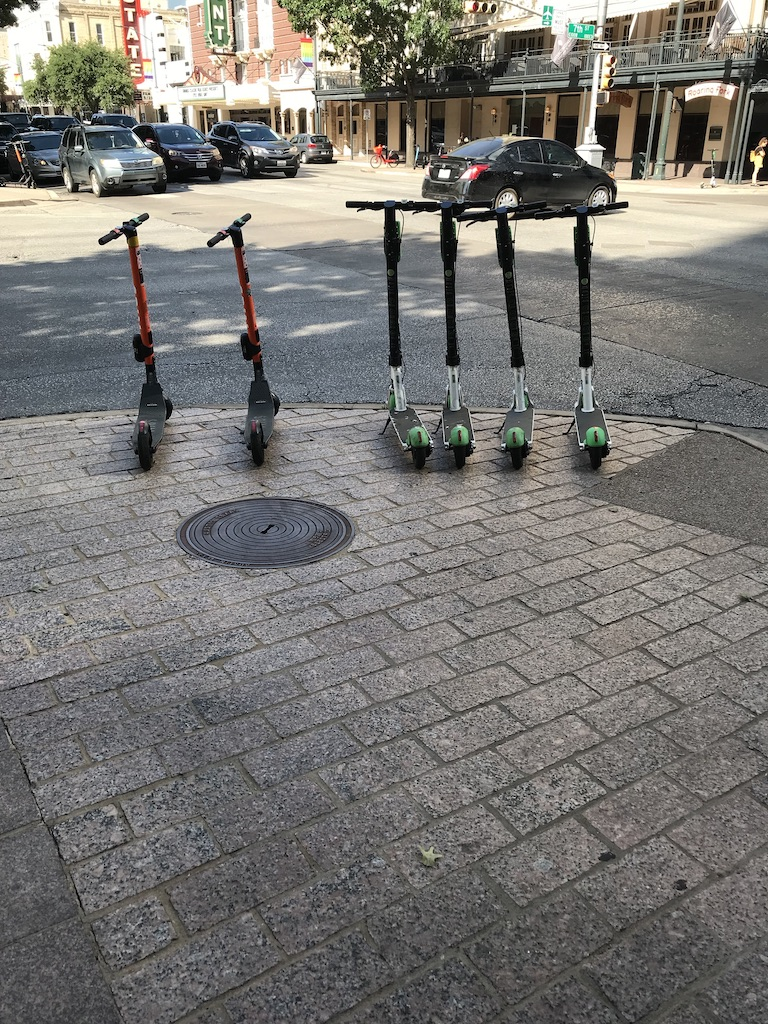scooter: (534, 202, 631, 473), (458, 201, 550, 471), (346, 201, 436, 471), (411, 199, 492, 472), (99, 214, 175, 473), (206, 210, 279, 464)
